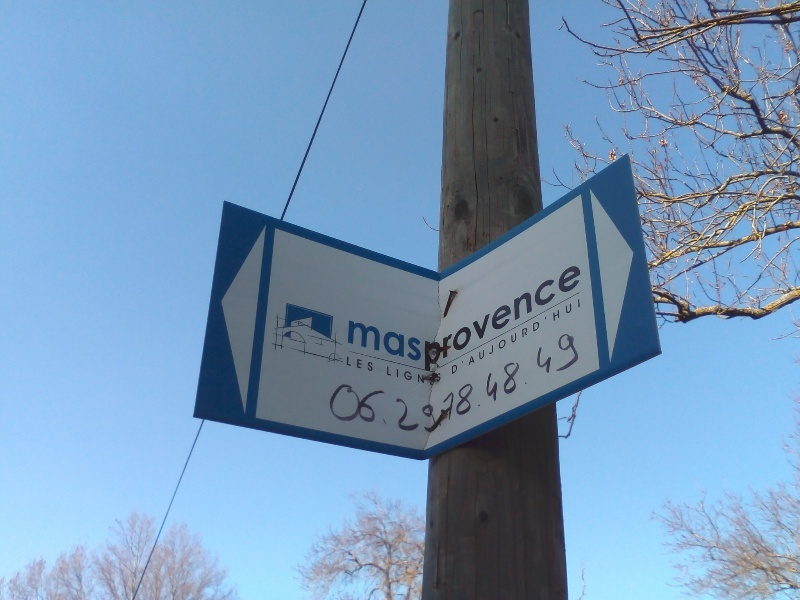text: (321, 259, 336, 370), (337, 259, 352, 370), (353, 259, 368, 370), (369, 259, 384, 370), (385, 259, 400, 370), (401, 259, 416, 370), (417, 259, 432, 370), (433, 259, 448, 370), (449, 259, 464, 370), (465, 259, 480, 370), (481, 259, 496, 370), (497, 259, 512, 370), (513, 259, 528, 370), (529, 259, 544, 370), (545, 259, 560, 370), (561, 259, 576, 370), (308, 259, 320, 370), (449, 297, 464, 376), (465, 297, 480, 376), (481, 297, 496, 376), (497, 297, 512, 376), (513, 297, 528, 376), (529, 297, 544, 376), (545, 297, 560, 376), (561, 297, 576, 376), (545, 331, 560, 381), (561, 331, 576, 381), (497, 359, 512, 406), (337, 382, 352, 428), (353, 382, 368, 428), (369, 382, 384, 428), (577, 259, 583, 370), (449, 382, 464, 424), (483, 359, 496, 406), (401, 398, 416, 435), (417, 398, 432, 435), (577, 297, 584, 376), (535, 331, 544, 381), (513, 359, 522, 406), (433, 365, 449, 389), (465, 382, 474, 424), (401, 365, 416, 389), (417, 365, 432, 389), (577, 331, 584, 381), (386, 365, 400, 389), (353, 355, 368, 373), (433, 398, 440, 435), (395, 398, 400, 435), (444, 382, 448, 424), (369, 355, 376, 373), (346, 355, 352, 373), (385, 382, 387, 428)
